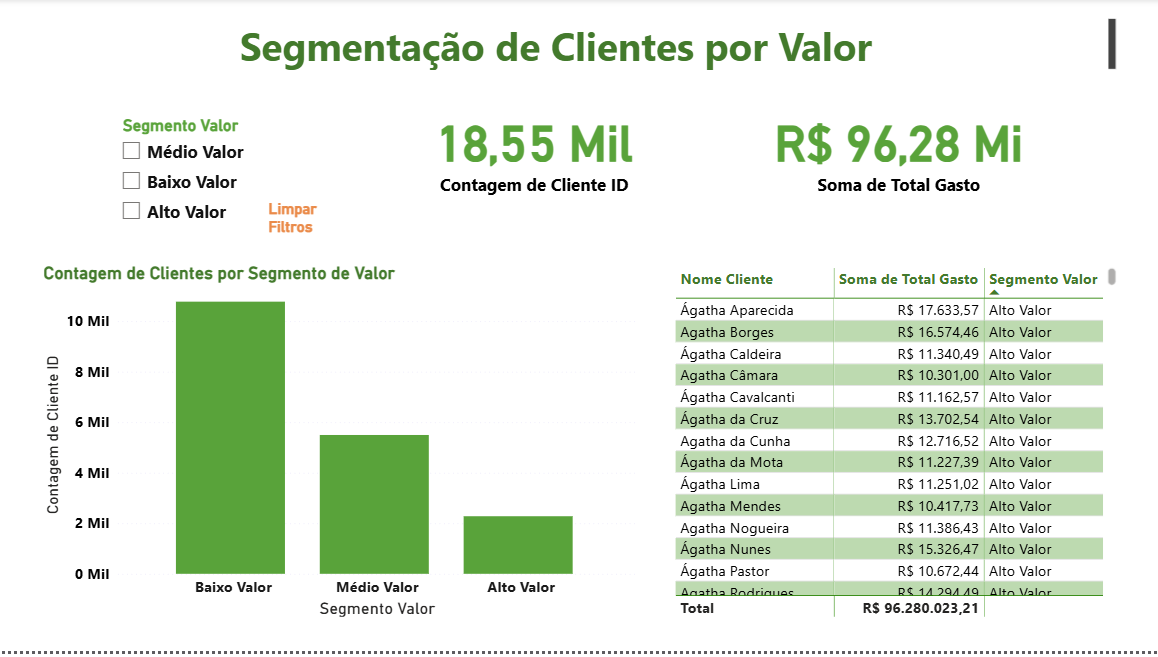

Layout of this report page (visuals, bound fields, positions):
{"tool":"powerbi","page":{"name":"Análise Clientes","canvas":[1280,720],"ordinal":2},"visuals":[{"type":"clusteredColumnChart","title":"Contagem de Clientes por Segmento de Valor","fields":{"Category":["ClientesPorSegmento.SegmentoDeValor"],"Y":["Count(ClientesPorSegmento.ClienteID)"]},"box":[43.1,291.5,664.2,395.9],"z":0},{"type":"tableEx","fields":{"Values":["ClientesPorSegmento.NomeCliente","Sum(ClientesPorSegmento.GastoTotalFormatado)","ClientesPorSegmento.SegmentoDeValor"]},"box":[740.4,291.5,496.9,395.9],"z":1000},{"type":"card","fields":{"Values":["CountNonNull(ClientesPorSegmento.Cliente ID)"]},"box":[472.1,82.8,235.2,164],"z":2000},{"type":"card","fields":{"Values":["Sum(ClientesPorSegmento.Total Gasto)"]},"box":[834.9,82.8,314.7,164],"z":3000},{"type":"slicer","fields":{"Values":["ClientesPorSegmento.Segmento Valor"]},"box":[122.6,124.2,223.6,137.5],"z":4000},{"type":"textbox","box":[260.1,16.6,977.3,66.3],"z":5000},{"type":"actionButton","title":"Limpar Filtros","box":[296.7,221.7,100,40],"z":6000}]}

Visuals, with their boxes in screenshot pixels (x1, y1, x2, y2), scaled from the page's 1280x720 canvas onto the 1158x657 screenshot:
"Contagem de Clientes por Segmento de Valor" clusteredColumnChart: left=39, top=266, right=640, bottom=627
tableEx - ClientesPorSegmento.NomeCliente x Sum(ClientesPorSegmento.GastoTotalFormatado): left=670, top=266, right=1119, bottom=627
card - CountNonNull(ClientesPorSegmento.Cliente ID): left=427, top=76, right=640, bottom=225
card - Sum(ClientesPorSegmento.Total Gasto): left=755, top=76, right=1040, bottom=225
slicer - ClientesPorSegmento.Segmento Valor: left=111, top=113, right=313, bottom=239
textbox: left=235, top=15, right=1119, bottom=76
"Limpar Filtros" actionButton: left=268, top=202, right=359, bottom=239
